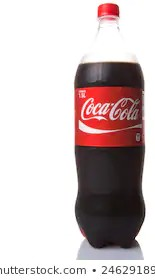coke-bottle-2l: (69, 1, 152, 249)
